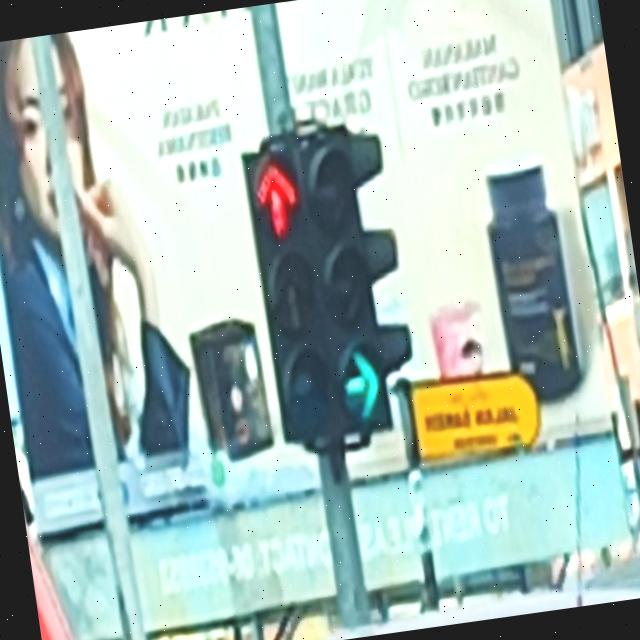green_light: (297, 126, 391, 432)
red_light: (243, 141, 335, 442)
